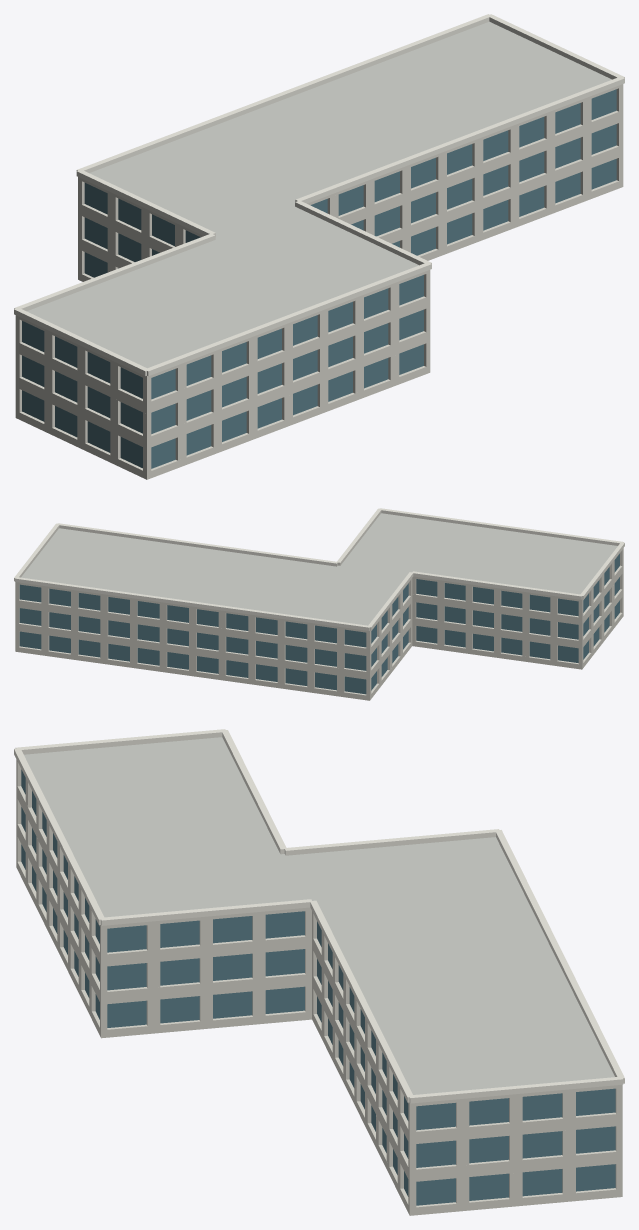
File: sb_587354109.far.glb
3 renders of one model, top to bottom at view 1: azimuth 30°, elevation 25°; view 2: azimuth 150°, elevation 25°; view 3: azimuth 270°, elevation 25°, orthographic. The views are drawn at different scales.
Visible parts, largest first — view 1: roof, wall, glass, trim; view 2: roof, wall, glass, trim; view 3: roof, wall, glass, trim.
Part boxes in pixels (left/top/right/bottom): roof: left=27, top=21, right=611, bottom=368; wall: left=15, top=84, right=623, bottom=479; glass: left=22, top=89, right=616, bottom=468; trim: left=14, top=14, right=624, bottom=376; roof: left=21, top=513, right=617, bottom=625; wall: left=15, top=548, right=623, bottom=700; glass: left=19, top=553, right=619, bottom=694; trim: left=14, top=508, right=624, bottom=630; roof: left=24, top=737, right=614, bottom=1094; wall: left=16, top=759, right=622, bottom=1215; glass: left=21, top=769, right=615, bottom=1205; trim: left=14, top=729, right=624, bottom=1103.
Bounding box in the file's own units: 65 × 9.74 × 45.47.
